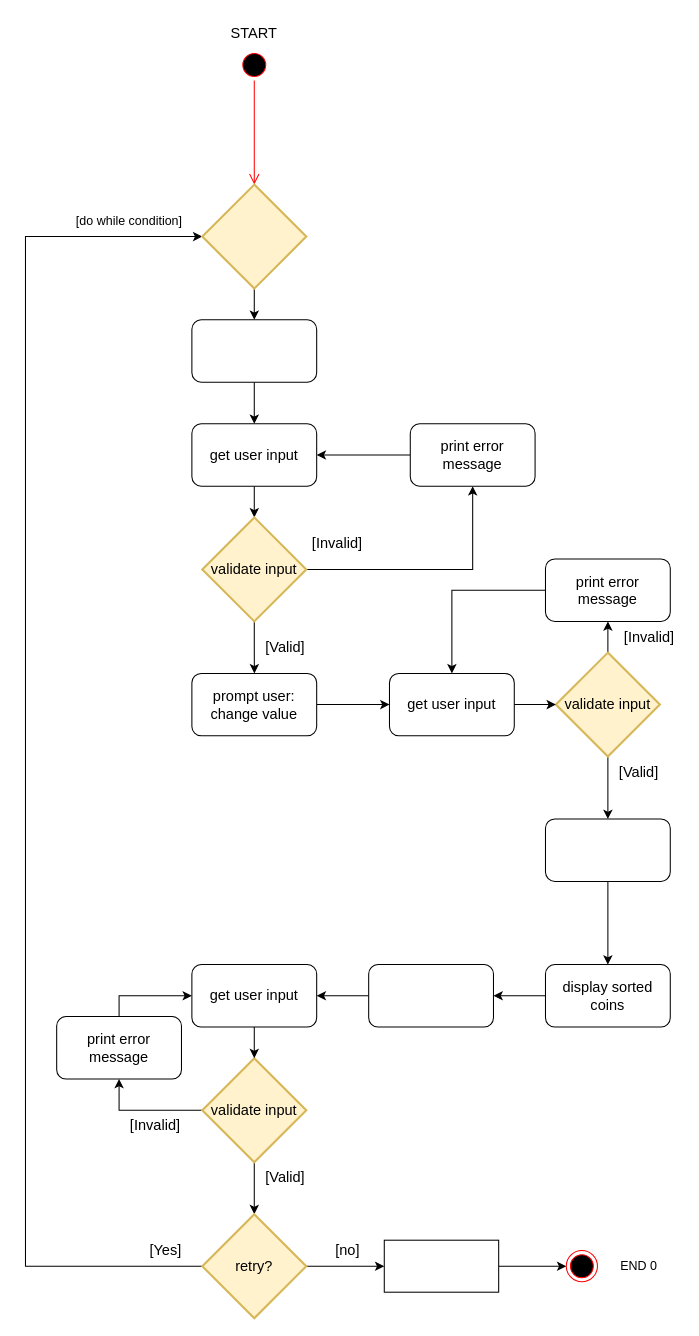
The diagram is 699 pixels wide and 1336 high, and some of its shapes have lost their labels. The shapes that lost their labels are listed below. From the top down, each one's box as (x1, y1, x2, y2) in pixels, then its label:
(191, 319, 317, 382): prompt user: enter currency
(544, 818, 670, 881): calculate sort coins
(368, 964, 493, 1027): prompt user: retry or quit?
(383, 1239, 499, 1292): press enter to quit
